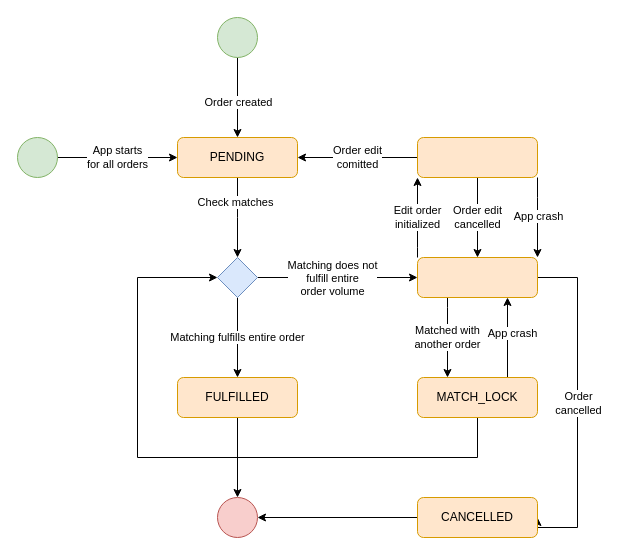
This 618x555 diagram has some shape labels left out. The centre of each missing label's shape, as x and y in pixels:
"ACTIVE" goes at (477,277).
"EDIT_LOCK" goes at (477,157).
